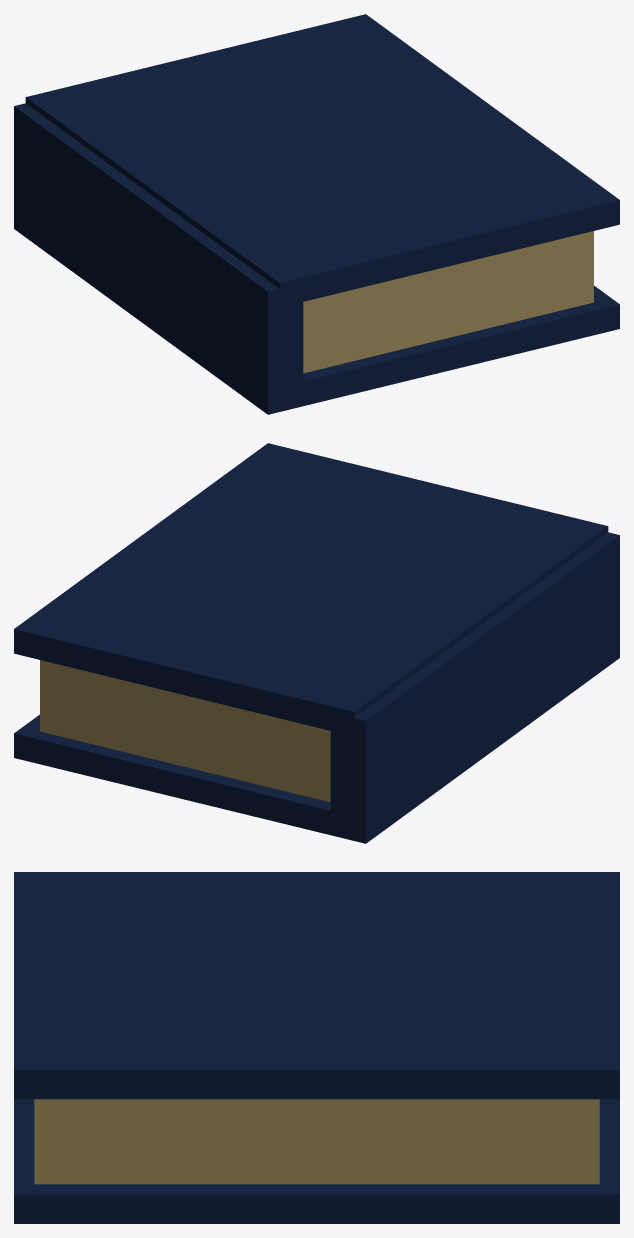
Rendered from C11_Livro_Remaster.obj.
3 renders of one model, top to bottom at view 1: azimuth 30°, elevation 25°; view 2: azimuth 150°, elevation 25°; view 3: azimuth 270°, elevation 25°, orthographic. The views are drawn at different scales.
Parts seen in each view (by area): view 1: C11_Livro_Remaster; view 2: C11_Livro_Remaster; view 3: C11_Livro_Remaster.
Boxes of the visible parts, box(x1,y1,x2,y2) form: C11_Livro_Remaster: box(14, 14, 619, 414); C11_Livro_Remaster: box(14, 443, 619, 843); C11_Livro_Remaster: box(14, 872, 619, 1223).
Bounding box in the file's own units: 0.6 × 0.21 × 0.75.
